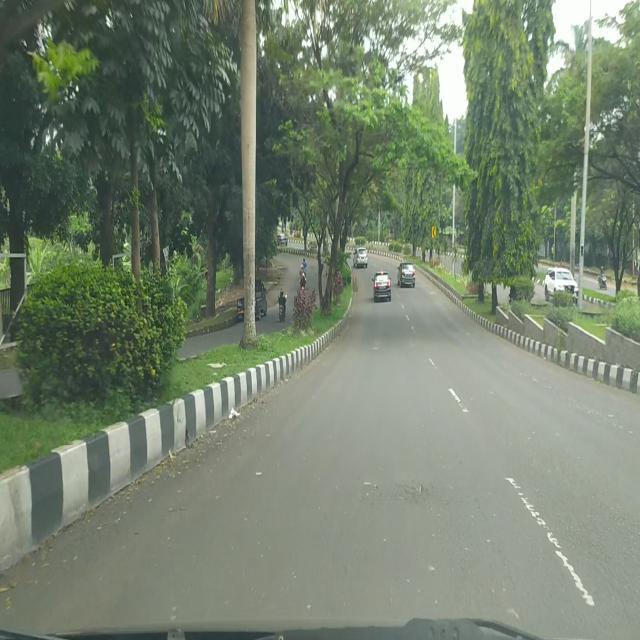Drain Hole: (360, 477, 437, 510)
